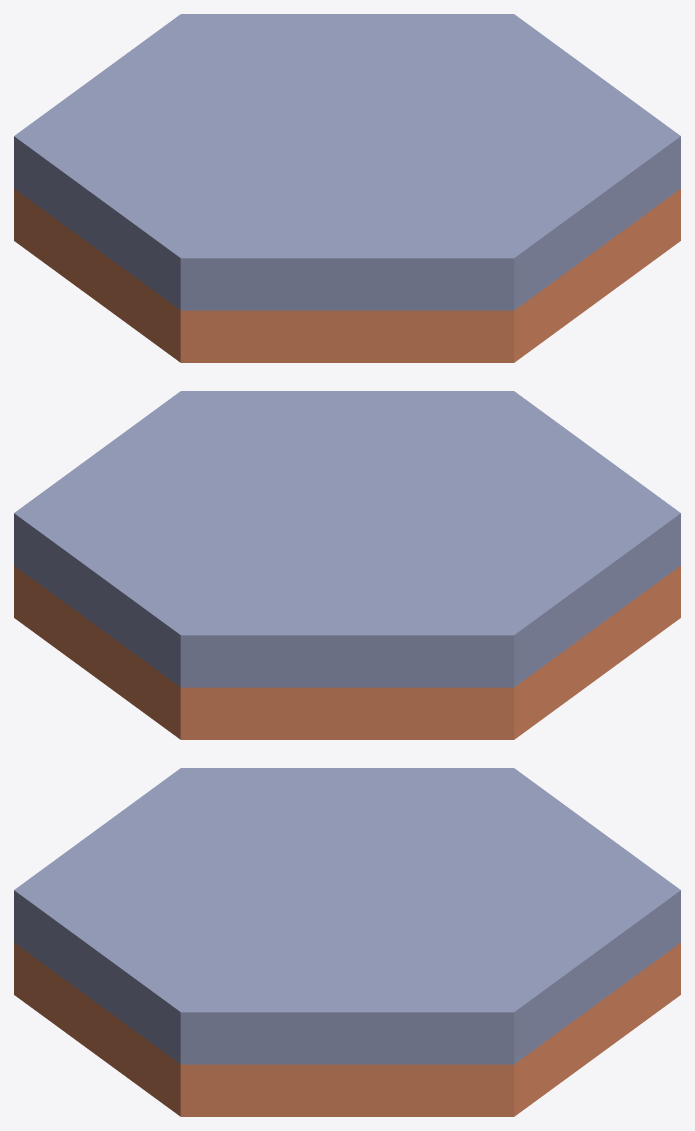
Rendered from hexagon-kit--stone.glb.
3 views of the same model, one above another, from view 1: azimuth 30°, elevation 25°; view 2: azimuth 150°, elevation 25°; view 3: azimuth 270°, elevation 25° (orthographic).
Parts seen in each view (by area): view 1: stone; view 2: stone; view 3: stone.
Boxes of the visible parts, left/top/right/bottom form: stone: left=14, top=14, right=680, bottom=362; stone: left=14, top=391, right=680, bottom=739; stone: left=14, top=768, right=680, bottom=1116.
Bounding box in the file's own units: 1 × 0.2 × 1.15.
Materials: 1 (1 with a texture image).
